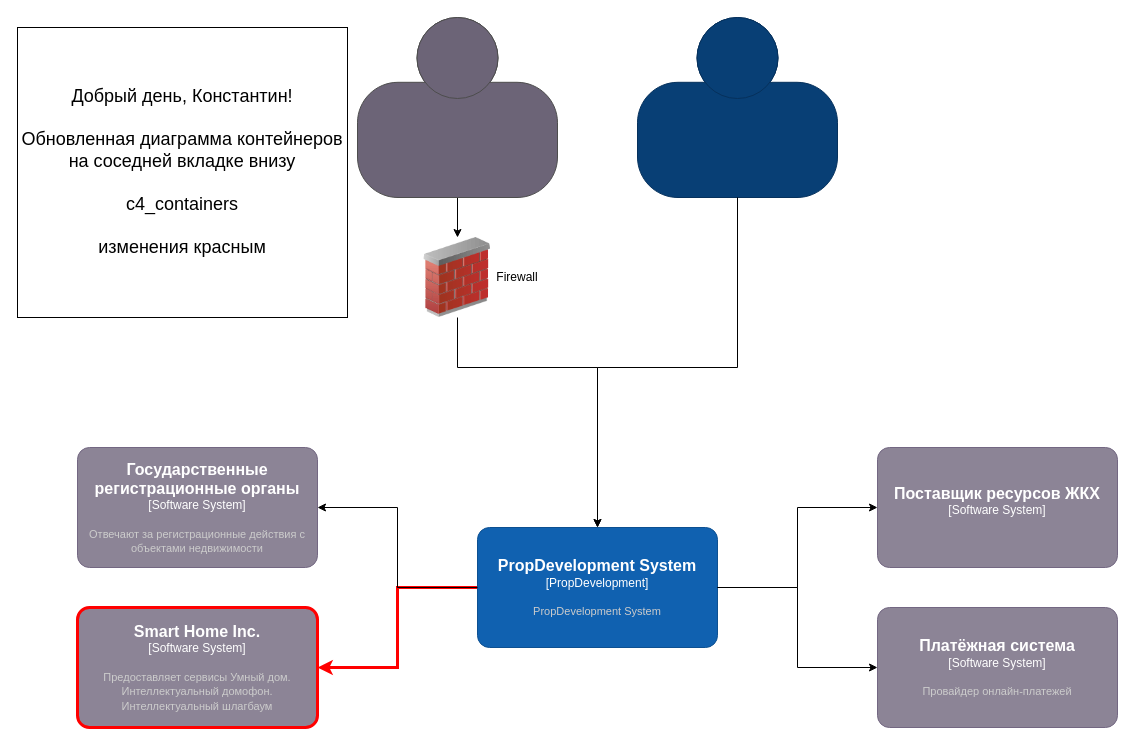
Some shapes in this 1135 by 746 pixel diagram are drawn without their labels. Each missing label, with the box of its shape:
Внешний пользователь [Person] Внешний пользователь: (356, 16, 558, 198)
Внутренний пользователь [Person] Внутренний пользователь: (636, 16, 838, 198)
